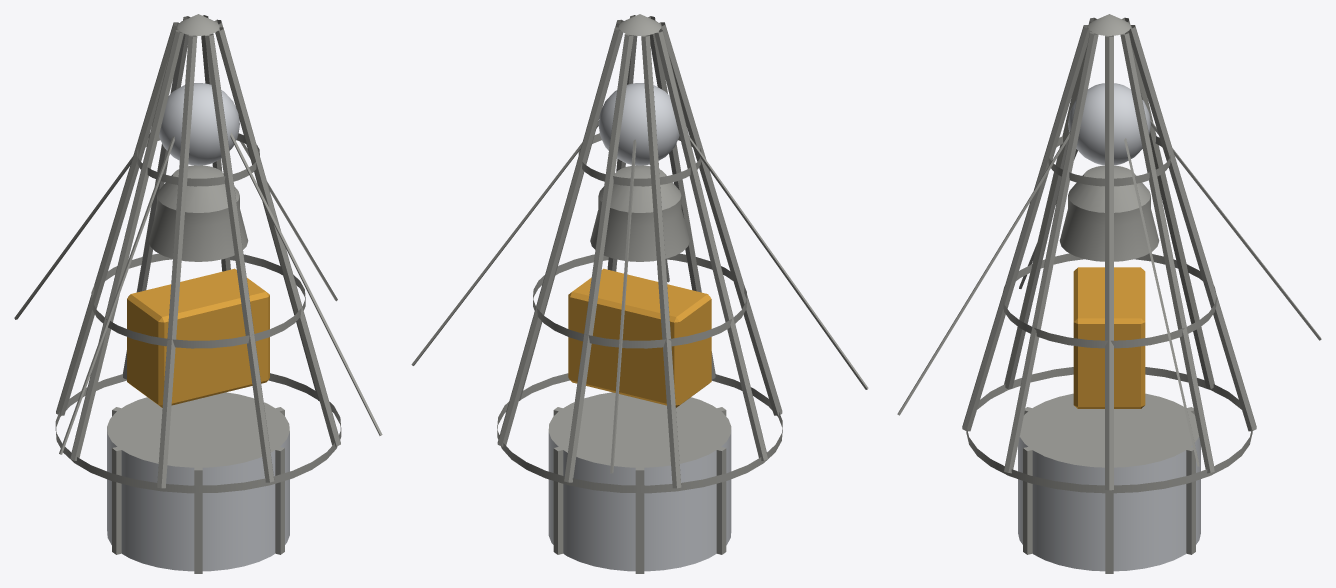
File: sputnik2.glb
3 views of the same model, side by side, from view 1: azimuth 30°, elevation 25°; view 2: azimuth 150°, elevation 25°; view 3: azimuth 270°, elevation 25° (orthographic).
Visible parts, largest first — view 1: model; view 2: model; view 3: model.
Part boxes in pixels (x1=…): model: x1=14, y1=14, x2=382, y2=573; model: x1=411, y1=14, x2=868, y2=573; model: x1=897, y1=14, x2=1321, y2=573.
Size of the model in its own units: 2.96 by 4 by 2.96.
1 material, 1 textured.
